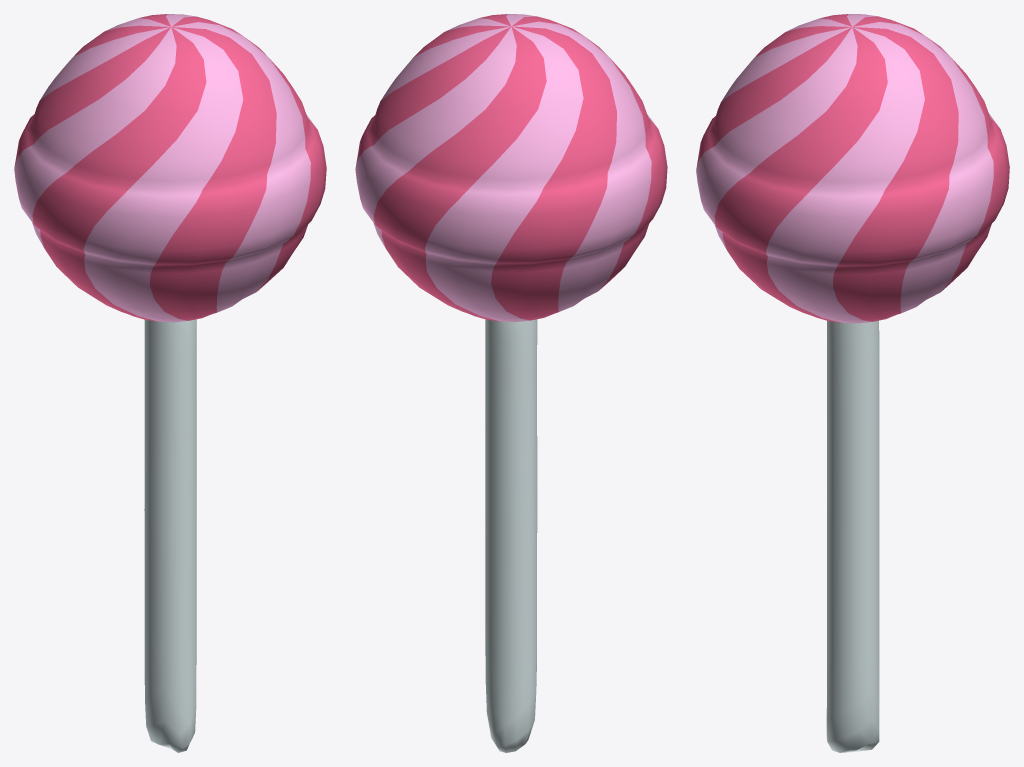
Rendered from Lollipop_A_03.fbx.
3 views of the same model, side by side, from view 1: azimuth 30°, elevation 25°; view 2: azimuth 150°, elevation 25°; view 3: azimuth 270°, elevation 25° (orthographic).
Parts seen in each view (by area): view 1: Lollipop_A_03_LOD0; view 2: Lollipop_A_03_LOD0; view 3: Lollipop_A_03_LOD0.
Part boxes in pixels (<box>): Lollipop_A_03_LOD0: <box>14,14,326,752</box>; Lollipop_A_03_LOD0: <box>355,14,667,752</box>; Lollipop_A_03_LOD0: <box>696,14,1009,752</box>.
Size of what is drawn, in the model's own units: 440 by 1123 by 440.
